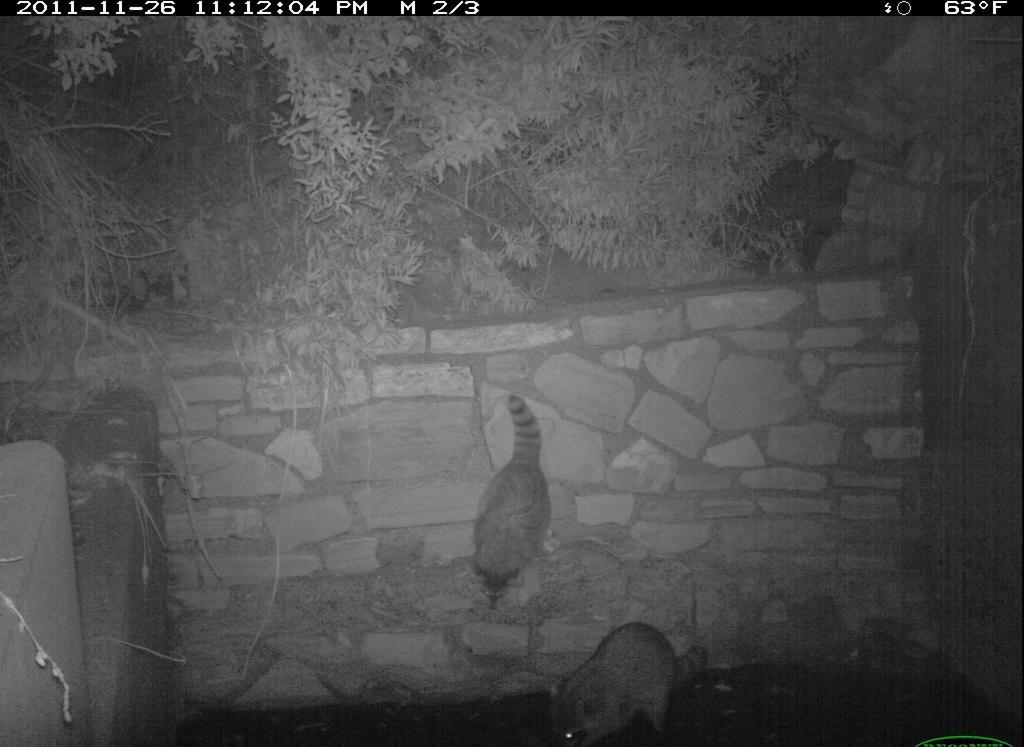raccoon: (547, 617, 713, 747), (464, 387, 560, 611)
